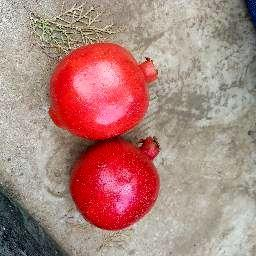pomegranate: (46, 42, 158, 142), (70, 136, 161, 232)
